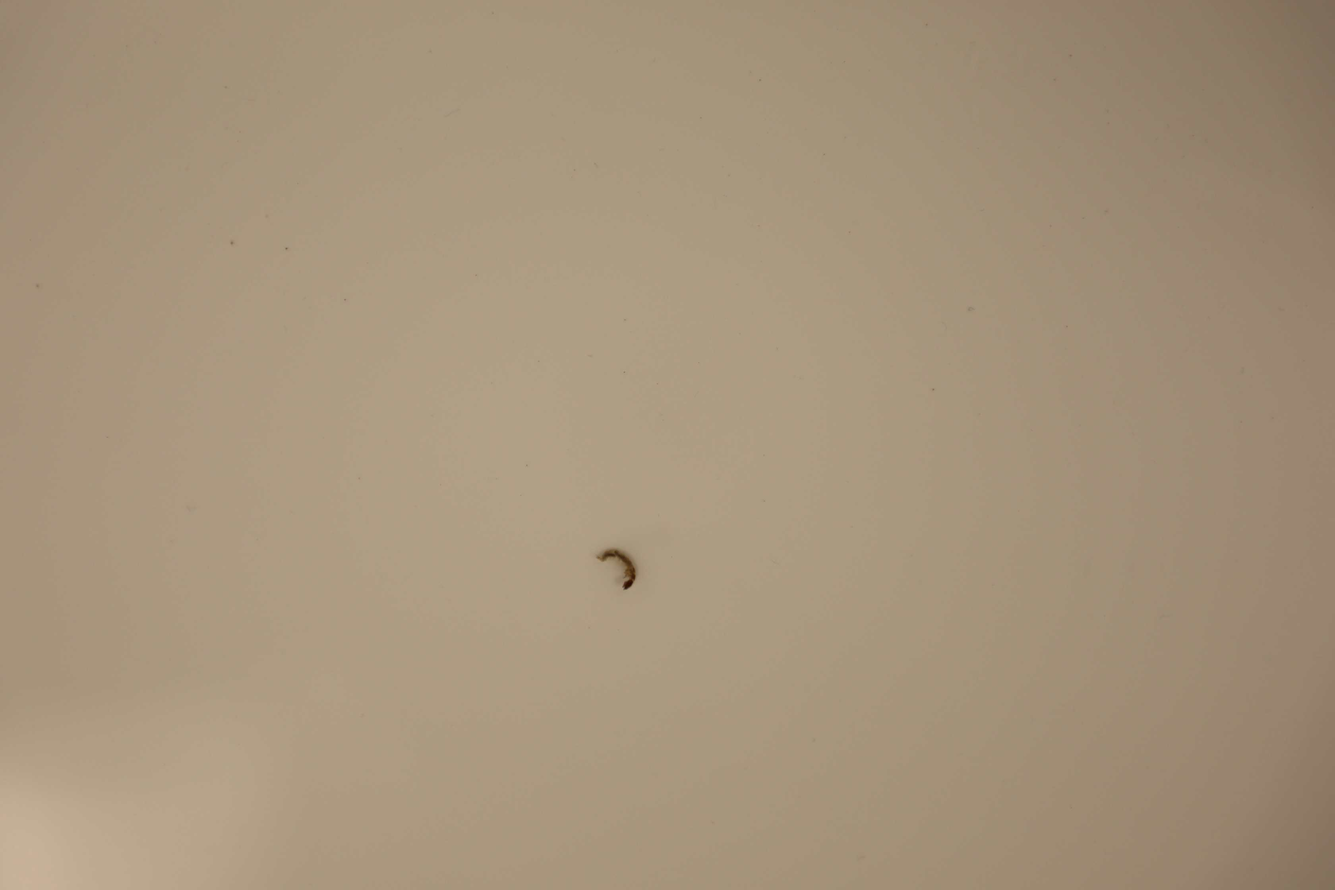Cadisfly: (591, 547, 644, 598)
